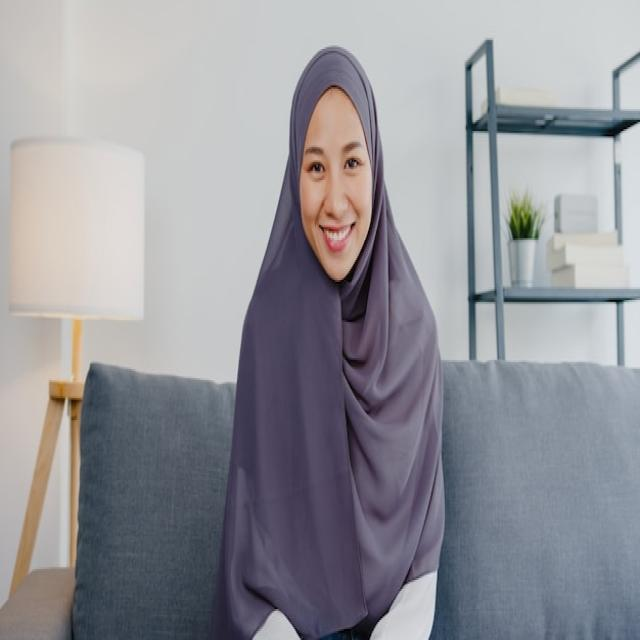Person: (209, 43, 444, 640)
